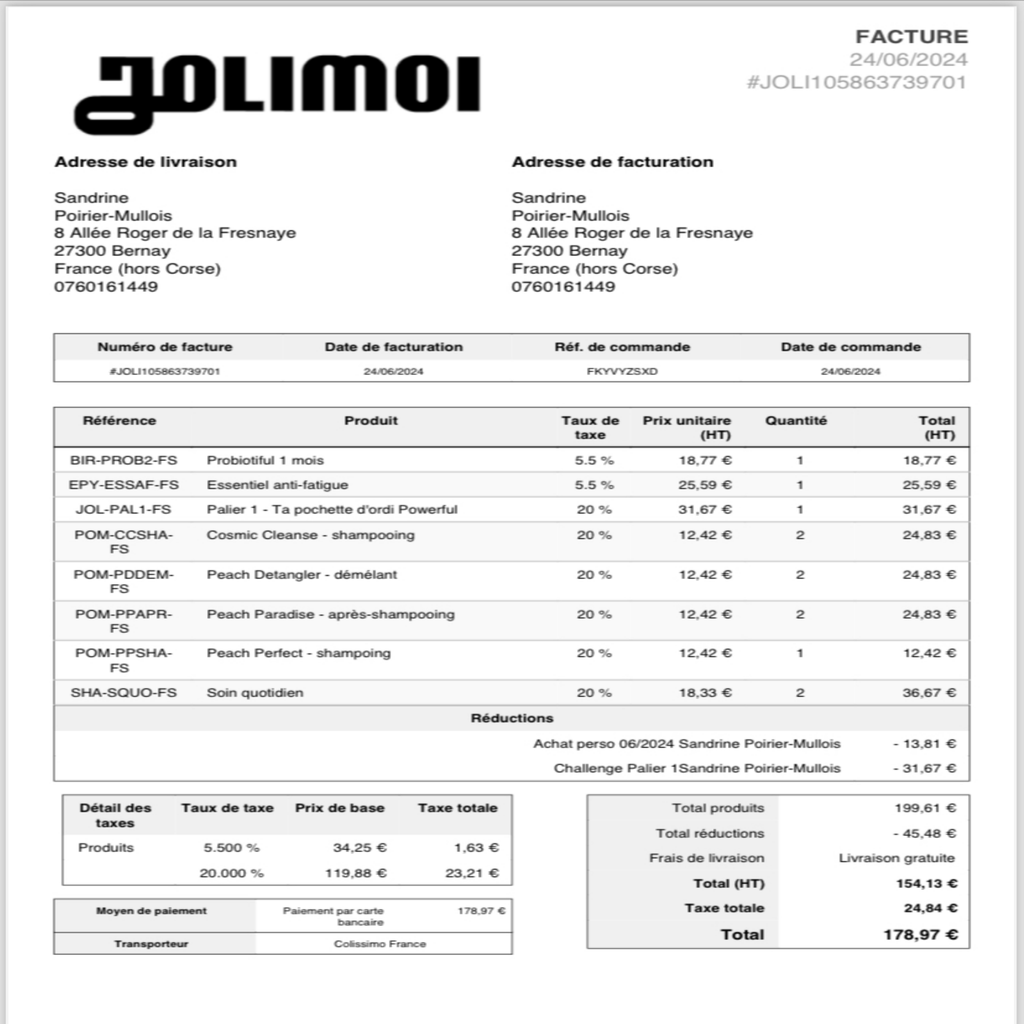recipt: (8, 11, 1016, 1018)
